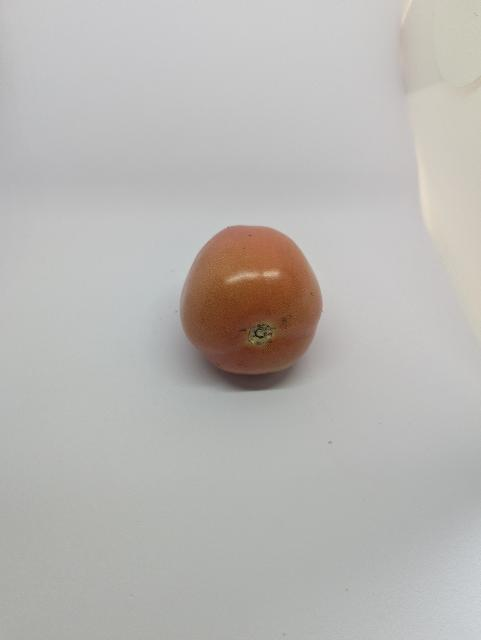turning: (166, 222, 337, 380)
